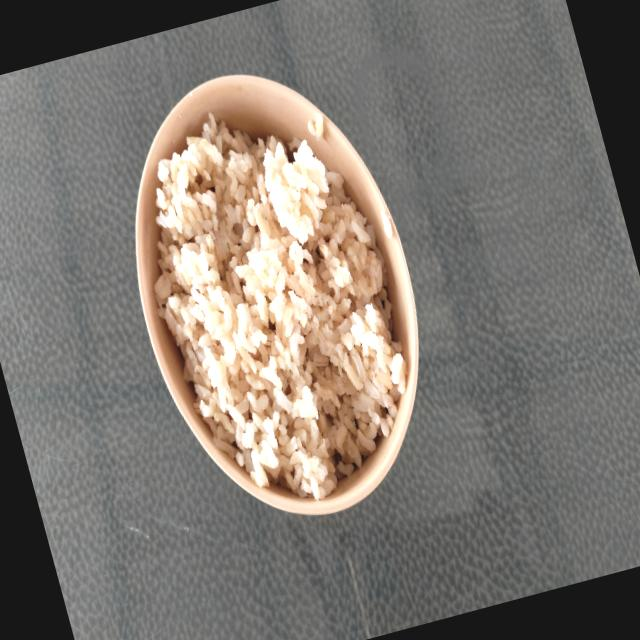brown-rice: (154, 114, 407, 499)
